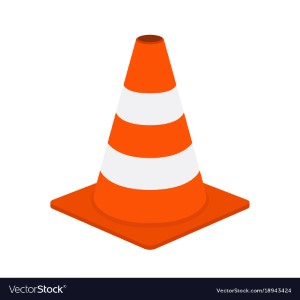traffic cone: (49, 33, 249, 249)
